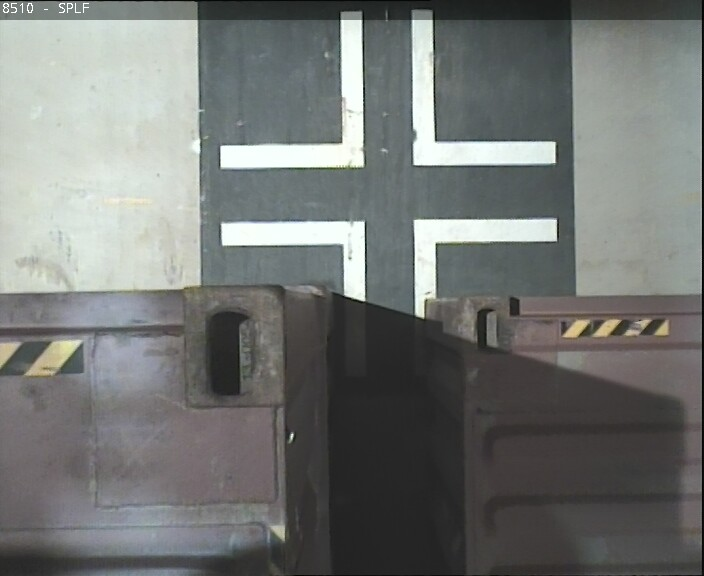groundmarker_1: (215, 219, 559, 374), (220, 12, 555, 171)
